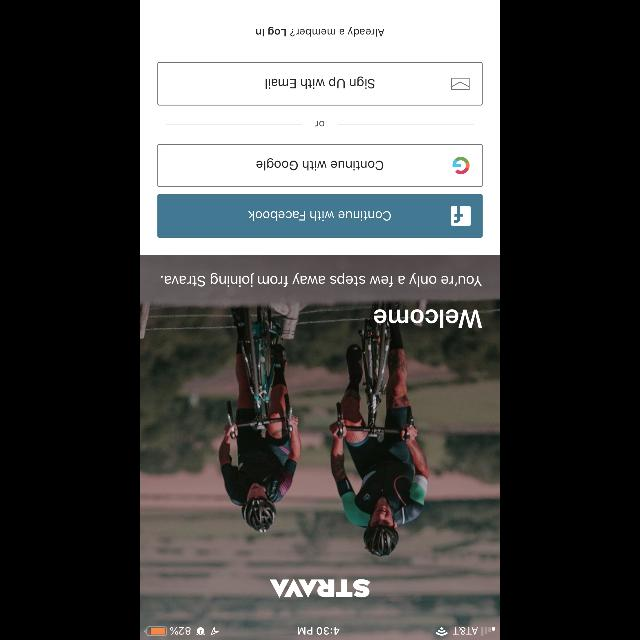image: (140, 255, 500, 639), (270, 579, 370, 597)
text: (160, 273, 482, 287), (374, 308, 482, 328), (256, 27, 384, 37), (314, 122, 324, 126)
textbutton: (158, 62, 482, 106), (158, 195, 482, 238), (158, 144, 482, 186)
uppertaskbar: (140, 626, 500, 640)
